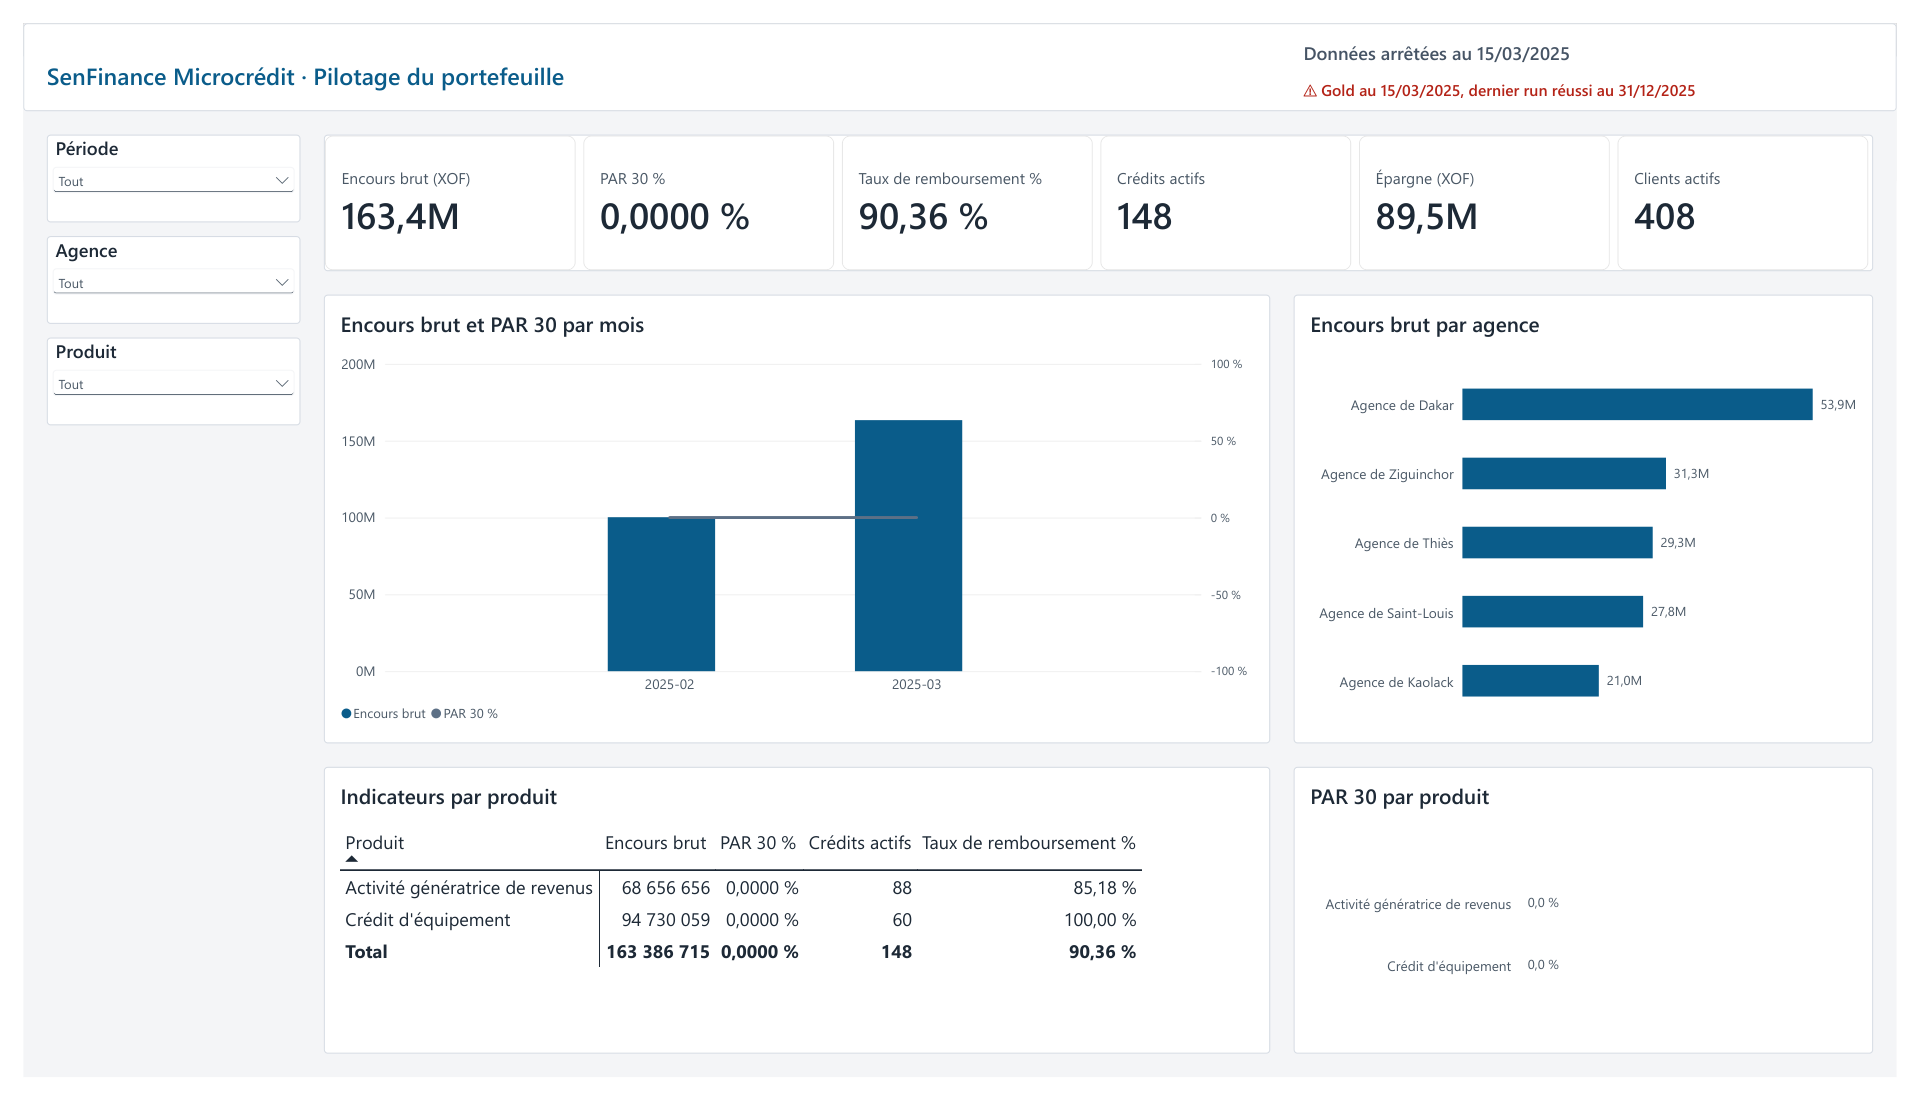

The page's visual inventory and layout, read from the dashboard file:
{"tool":"powerbi","page":{"name":"Pilotage portefeuille","canvas":[1920,1080],"ordinal":0},"visuals":[{"type":"shape","box":[0,0,1920,90],"z":0},{"type":"textbox","box":[24,20,1000,60],"z":1000},{"type":"cardVisual","fields":{"Data":["_Mesures.Bandeau arrêté"]},"box":[1296,10,600,40],"z":2000},{"type":"cardVisual","fields":{"Data":["_Mesures.Alerte fraîcheur"]},"box":[1296,50,600,34],"z":3000},{"type":"slicer","fields":{"Values":["dim_date.annee_mois"]},"box":[24,114,260,90],"z":4000},{"type":"slicer","fields":{"Values":["dim_agence.nom"]},"box":[24,218,260,90],"z":5000},{"type":"slicer","fields":{"Values":["dim_produit_credit.libelle"]},"box":[24,322,260,90],"z":6000},{"type":"cardVisual","fields":{"Data":["_Mesures.Encours brut","_Mesures.PAR 30 %","_Mesures.Taux de remboursement %","_Mesures.Crédits actifs","_Mesures.Encours d'épargne","_Mesures.Clients actifs"]},"box":[308,114,1588,140],"z":7000},{"type":"lineClusteredColumnComboChart","title":"Encours brut et PAR 30 par mois","fields":{"Category":["dim_date.annee_mois"],"Y":["_Mesures.Encours brut"],"Y2":["_Mesures.PAR 30 %"]},"box":[308,278,970,460],"z":8000},{"type":"clusteredBarChart","title":"Encours brut par agence","fields":{"Category":["dim_agence.nom"],"Y":["_Mesures.Encours brut"]},"box":[1302,278,594,460],"z":9000},{"type":"pivotTable","title":"Indicateurs par produit","fields":{"Rows":["dim_produit_credit.libelle"],"Values":["_Mesures.Encours brut","_Mesures.PAR 30 %","_Mesures.Crédits actifs","_Mesures.Taux de remboursement %"]},"box":[308,762,970,294],"z":10000},{"type":"clusteredBarChart","title":"PAR 30 par produit","fields":{"Category":["dim_produit_credit.libelle"],"Y":["_Mesures.PAR 30 %"]},"box":[1302,762,594,294],"z":11000}]}

Visuals, with their boxes in screenshot pixels (x1, y1, x2, y2), scaled from the page's 1920x1080 canvas onto the 1920x1101 screenshot:
shape: (x1=0, y1=0, x2=1919, y2=92)
textbox: (x1=24, y1=20, x2=1024, y2=82)
cardVisual - _Mesures.Bandeau arrêté: (x1=1296, y1=10, x2=1896, y2=51)
cardVisual - _Mesures.Alerte fraîcheur: (x1=1296, y1=51, x2=1896, y2=86)
slicer - dim_date.annee_mois: (x1=24, y1=116, x2=284, y2=208)
slicer - dim_agence.nom: (x1=24, y1=222, x2=284, y2=314)
slicer - dim_produit_credit.libelle: (x1=24, y1=328, x2=284, y2=420)
cardVisual - _Mesures.Encours brut x _Mesures.PAR 30 %: (x1=308, y1=116, x2=1896, y2=259)
"Encours brut et PAR 30 par mois" lineClusteredColumnComboChart: (x1=308, y1=283, x2=1278, y2=752)
"Encours brut par agence" clusteredBarChart: (x1=1302, y1=283, x2=1896, y2=752)
"Indicateurs par produit" pivotTable: (x1=308, y1=777, x2=1278, y2=1077)
"PAR 30 par produit" clusteredBarChart: (x1=1302, y1=777, x2=1896, y2=1077)
